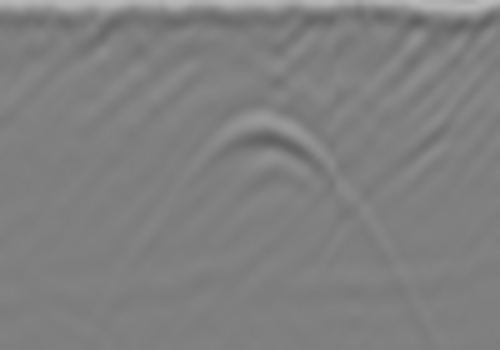hyperbola: (119, 101, 418, 334)
